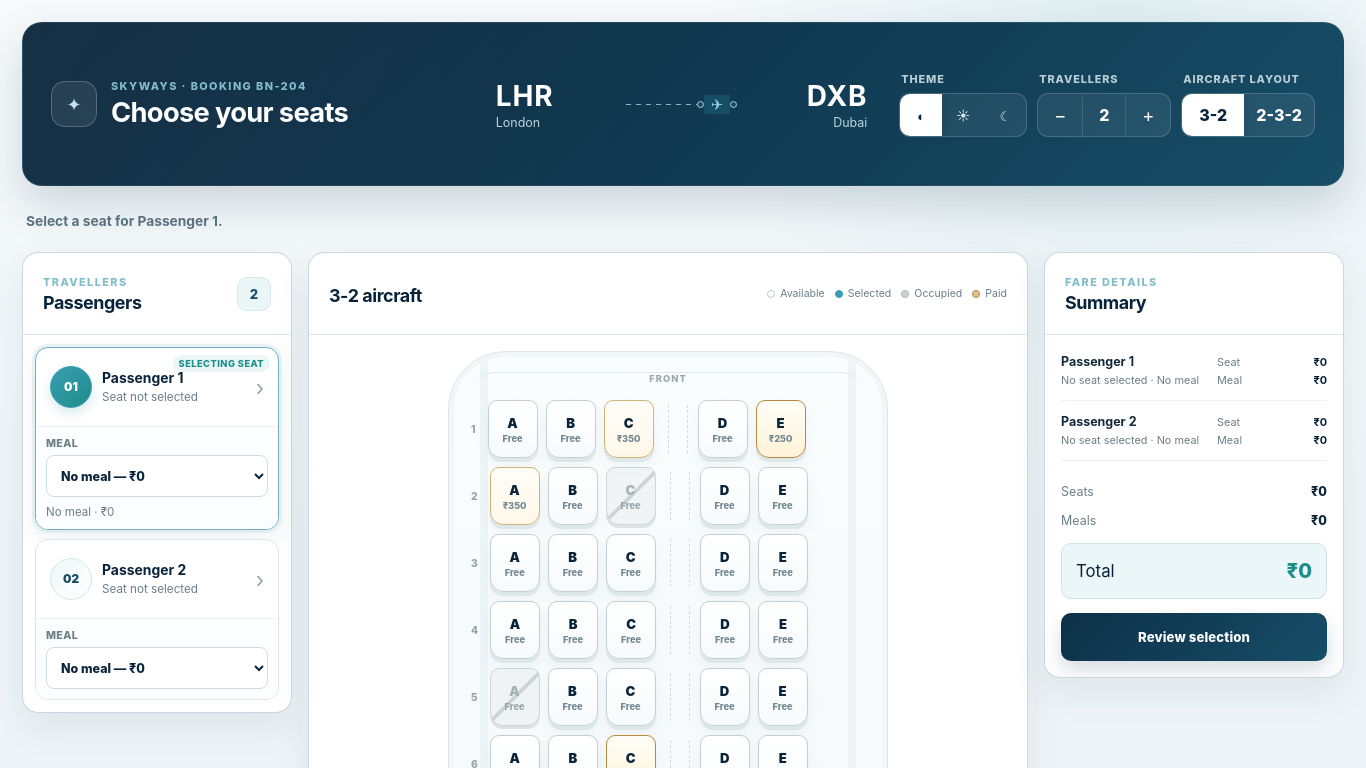
Test case: App › assigns a seat and updates the summary
What coordinates should you click on to do the following:
click the button with aria-label "Seat 1A"
I would click on:
 (512, 429)
Its box is [488, 400, 538, 458].
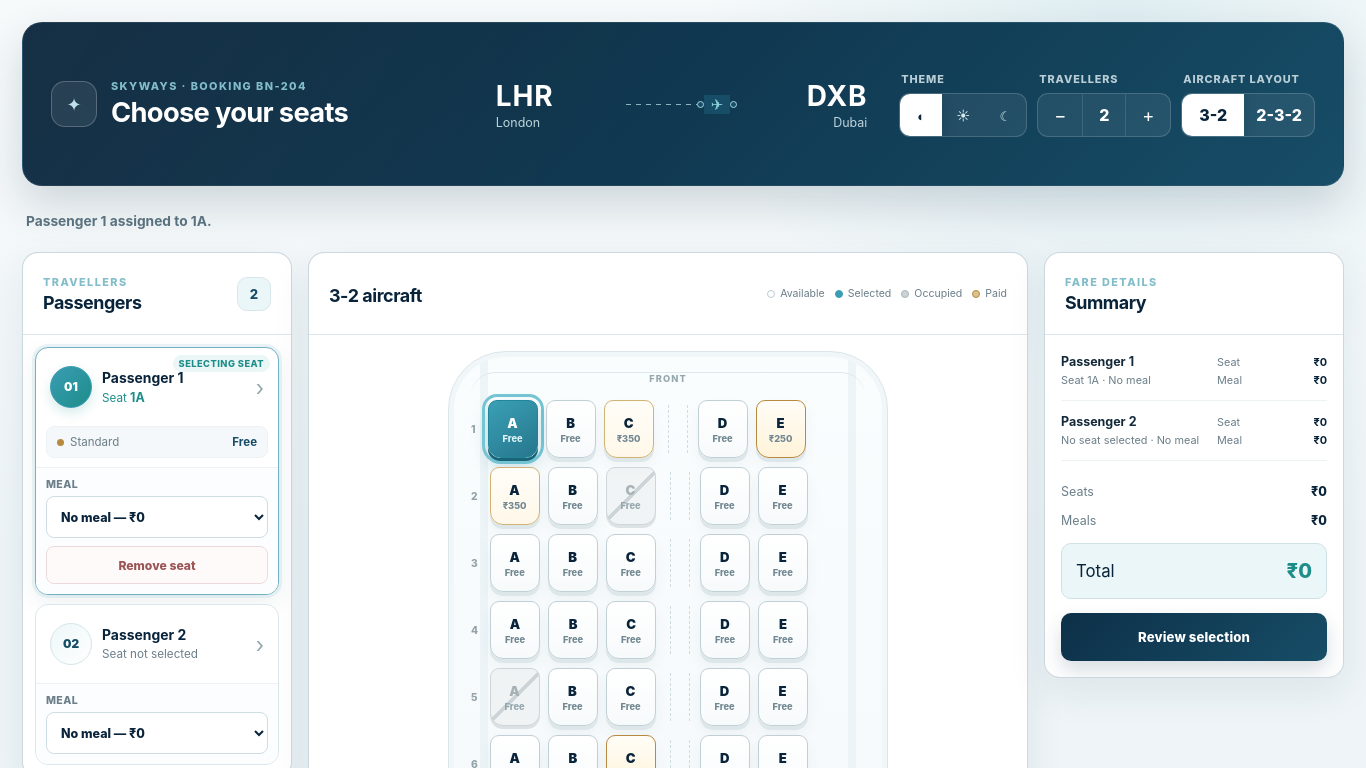
Result: the text "Passenger 1 assigned to 1A." is shown at [26, 213, 212, 229]
